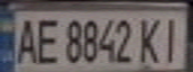2: (115, 15, 136, 64)
4: (100, 15, 118, 64)
8: (60, 15, 84, 64), (78, 16, 100, 64)
A: (12, 15, 39, 65)
E: (33, 15, 60, 65)
I: (157, 14, 187, 63)
K: (136, 15, 166, 64)
